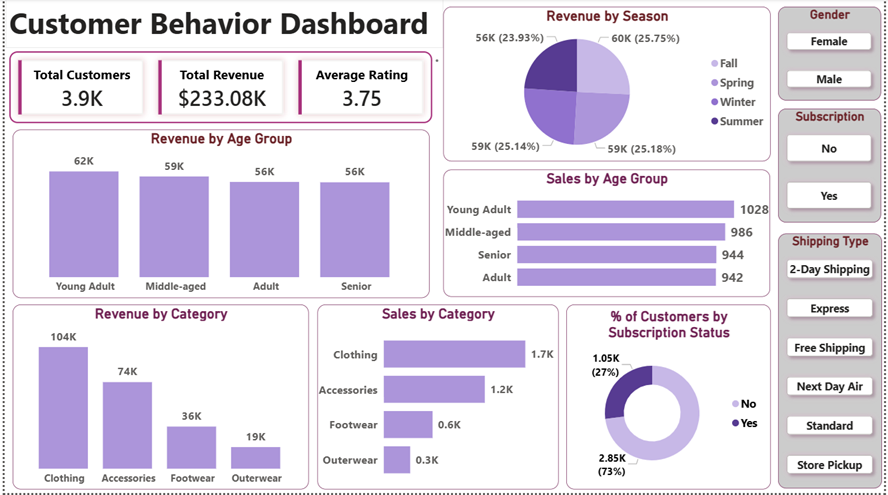

The page's visual inventory and layout, read from the dashboard file:
{"tool":"powerbi","page":{"name":"Dashboard","canvas":[1280,720],"ordinal":0},"visuals":[{"type":"textbox","box":[1.6,0,638,71.2],"z":0},{"type":"donutChart","title":"% of Customers by Subscription Status","fields":{"Category":["public customer.subscription_status"],"Y":["CountNonNull(public customer.customer_id)"]},"box":[817.7,446,298.3,269.5],"z":1000},{"type":"columnChart","title":"Revenue by Age Group","fields":{"Category":["public customer.age_group"],"Y":["Sum(public customer.purchase_amount)"]},"box":[12.1,190.8,607.2,245.3],"z":2000},{"type":"columnChart","title":"Revenue by Category","fields":{"Category":["public customer.category"],"Y":["Sum(public customer.purchase_amount)"]},"box":[12,446,431.5,269.5],"z":3000},{"type":"advancedSlicerVisual","title":"Gender","fields":{"Values":["public customer.gender"]},"box":[1126.6,11.6,149.9,136.8],"z":4000},{"type":"barChart","title":"Sales by Category","fields":{"Category":["public customer.category"],"Y":["public customer.Total Customers"]},"box":[455.8,446,351.3,269.5],"z":5000},{"type":"advancedSlicerVisual","title":"Subscription","fields":{"Values":["public customer.subscription_status"]},"box":[1126.6,160.1,149.9,165.9],"z":6000},{"type":"advancedSlicerVisual","title":"Shipping Type","fields":{"Values":["public customer.shipping_type"]},"box":[1127,342.1,151.4,371.2],"z":7000},{"type":"barChart","title":"Sales by Age Group","fields":{"Category":["public customer.age_group"],"Y":["CountNonNull(public customer.customer_id)"]},"box":[639,248.9,476,185],"z":8000},{"type":"pieChart","title":"Revenue by Season","fields":{"Category":["public customer.season"],"Y":["Sum(public customer.purchase_amount)"]},"box":[639,12.1,477,225.6],"z":9000},{"type":"cardVisual","fields":{"Data":["public customer.Number of Customers","public customer.Total Revenue","public customer.Average Review Rating"]},"box":[1.5,71.2,626.9,115.1],"z":10000}]}

Visuals, with their boxes in screenshot pixels (x1, y1, x2, y2), scaled from the page's 1280x720 canvas onto the 888x495 screenshot:
textbox: 1, 0, 444, 49
"% of Customers by Subscription Status" donutChart: 567, 307, 774, 492
"Revenue by Age Group" columnChart: 8, 131, 430, 300
"Revenue by Category" columnChart: 8, 307, 308, 492
"Gender" advancedSlicerVisual: 782, 8, 886, 102
"Sales by Category" barChart: 316, 307, 560, 492
"Subscription" advancedSlicerVisual: 782, 110, 886, 224
"Shipping Type" advancedSlicerVisual: 782, 235, 887, 490
"Sales by Age Group" barChart: 443, 171, 774, 298
"Revenue by Season" pieChart: 443, 8, 774, 163
cardVisual - public customer.Number of Customers x public customer.Total Revenue: 1, 49, 436, 128
